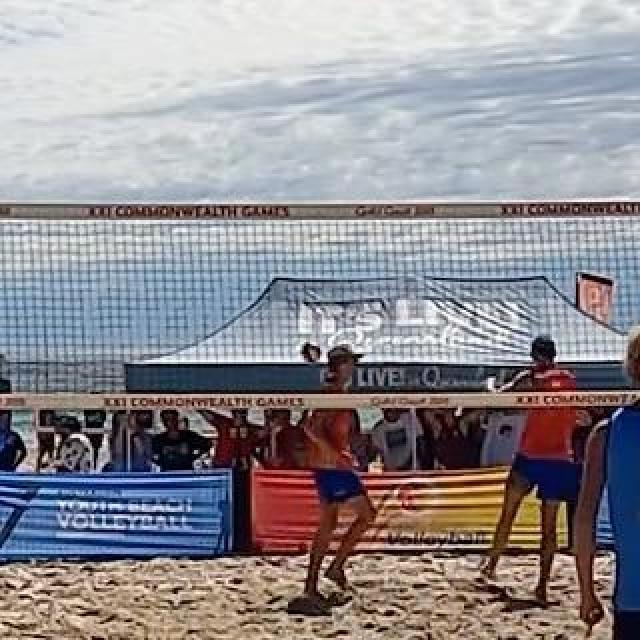volleyball: (299, 341, 323, 363)
